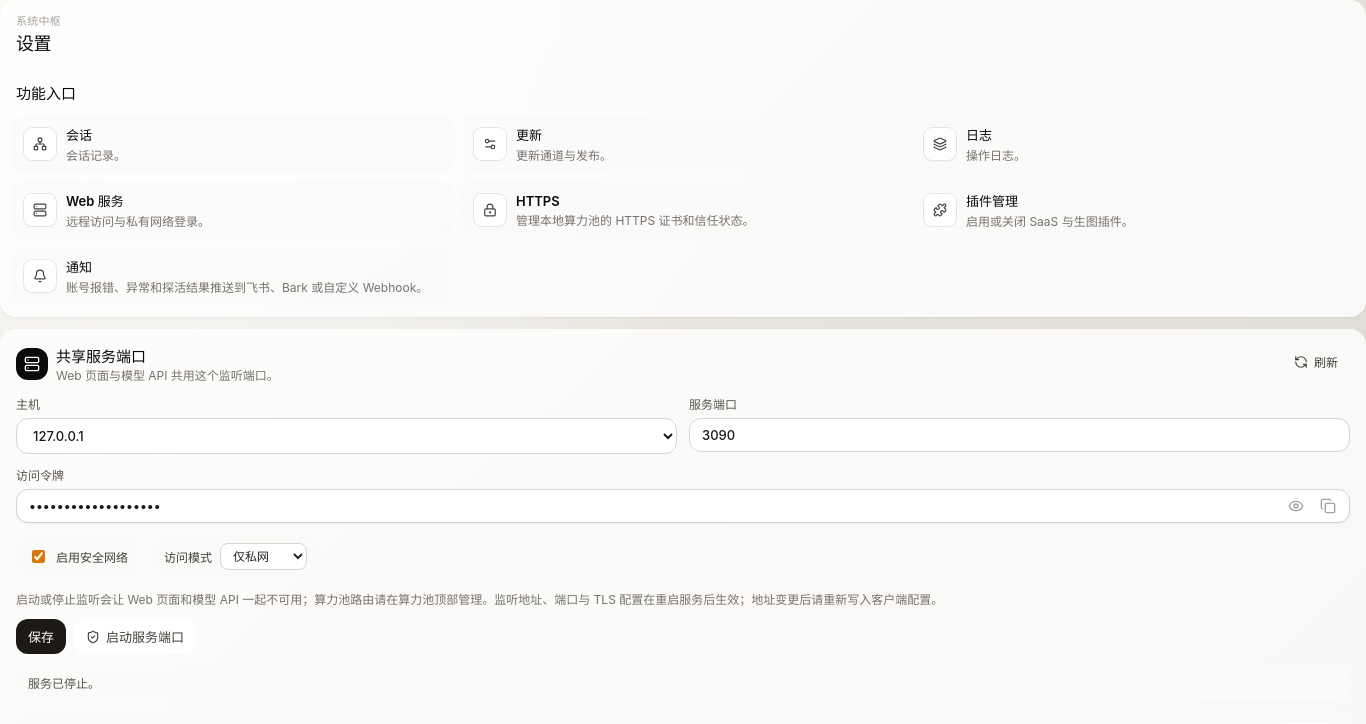
Test: SettingsScreen › still surfaces recovery commands when trust could not be verified
The image size is (1366, 724).
Click the button "HTTPS 管理本地算力池的 HTTPS 证书和信任状态。" at (683, 210), box x1=462 y1=181 x2=904 y2=239
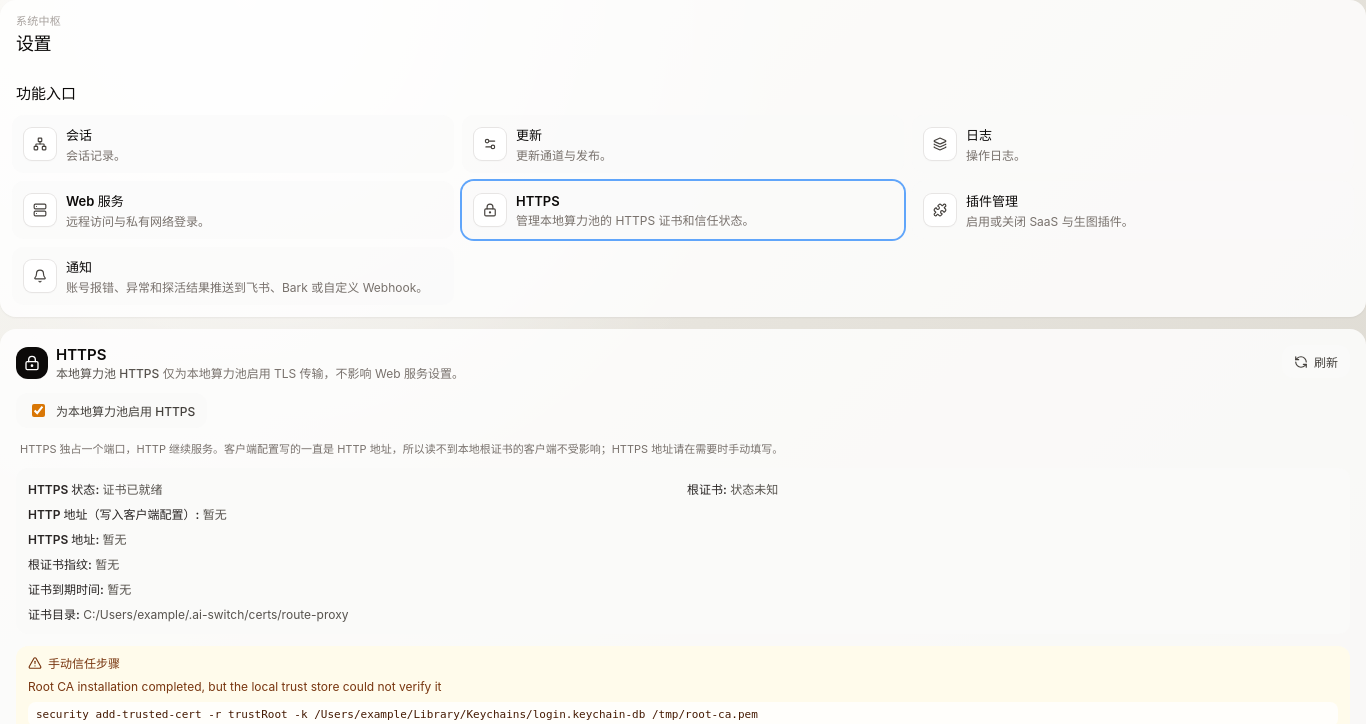
Expected: the text "security add-trusted-cert -r trustRoot -k /Users/example/Library/Keychains/login.keychain-db /tmp/root-ca.pem" is shown, x1=36 y1=708 x2=758 y2=721
Expected: the text "Root CA installation completed, but the local trust store could not verify it" is shown, x1=28 y1=679 x2=442 y2=694
